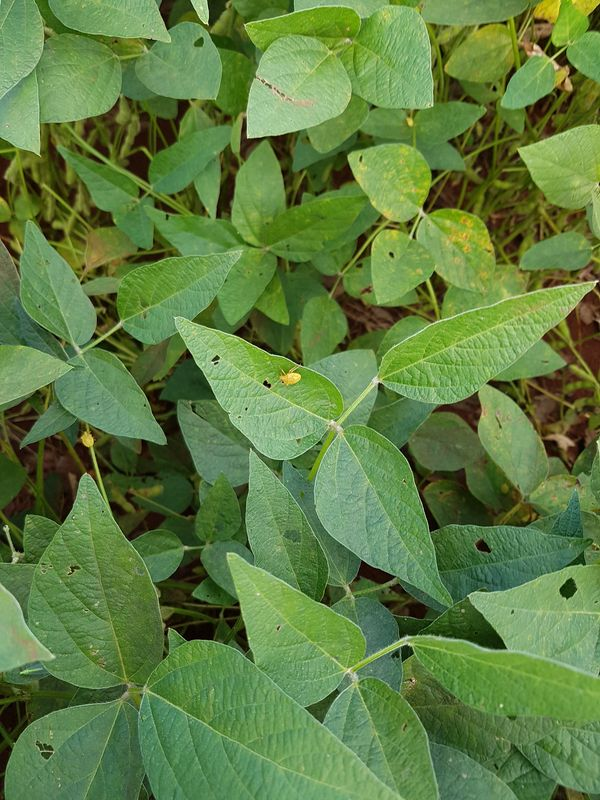Euschistus_heros_ninfa: (271, 361, 304, 389), (74, 427, 98, 452)
